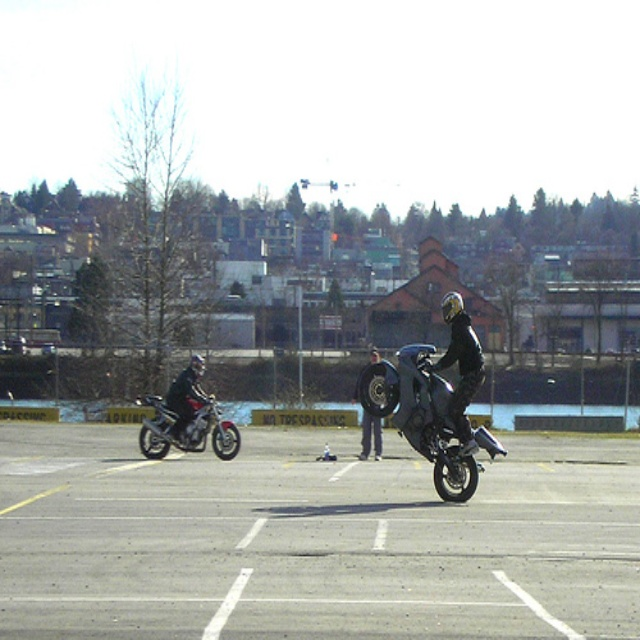Motorcycle: (357, 343, 508, 507), (138, 391, 241, 463)
